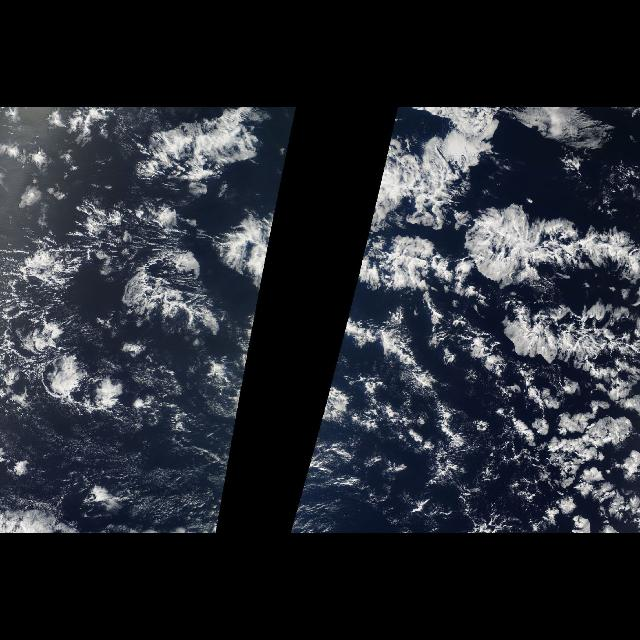Fish: (384, 198, 640, 398)
Flower: (288, 107, 640, 533), (115, 107, 297, 533)
Sugar: (69, 365, 247, 533)
